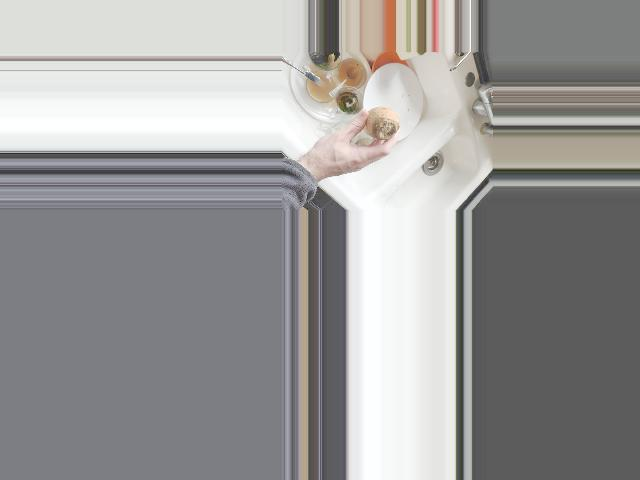sweet_potato: (356, 105, 401, 141)
